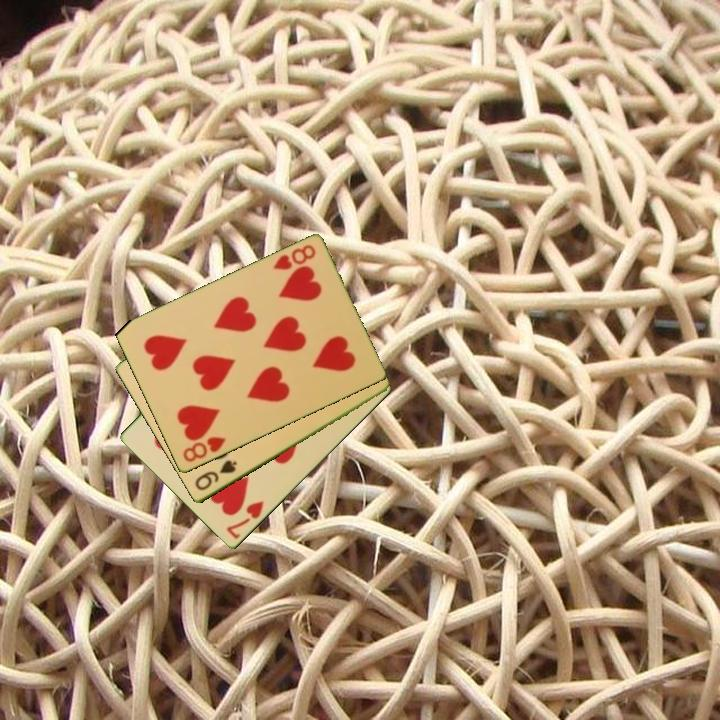7h: (223, 497, 267, 543)
8h: (179, 433, 229, 466), (270, 241, 318, 274)
9s: (191, 457, 240, 494)
